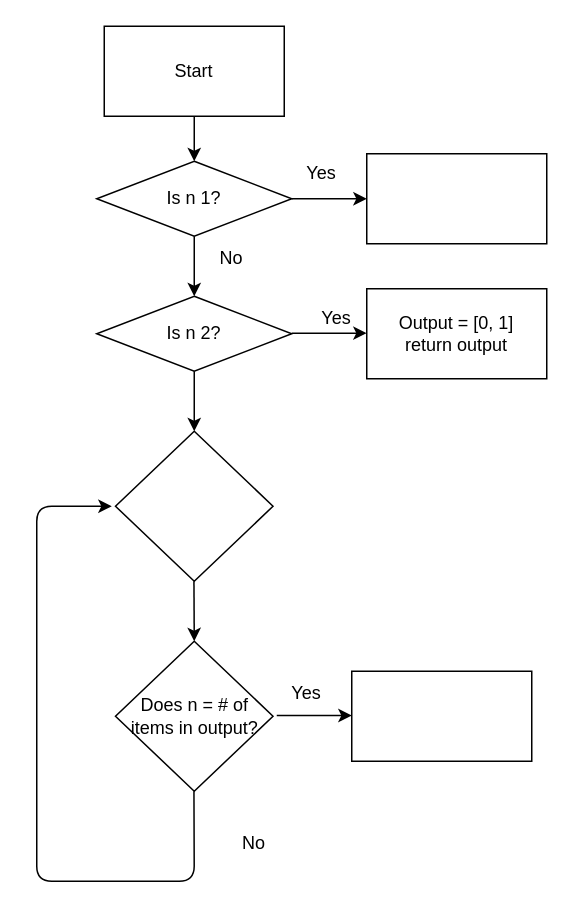
The diagram is 573 pixels wide and 920 high, and some of its shapes have lost their labels. The box of each missing label's shape, as (x1, y1, x2, y2) in pixels:
Output = [0] return output: (365, 152, 547, 244)
return output: (350, 670, 532, 761)
Sum of last 2 values in the output: (114, 430, 273, 581)
